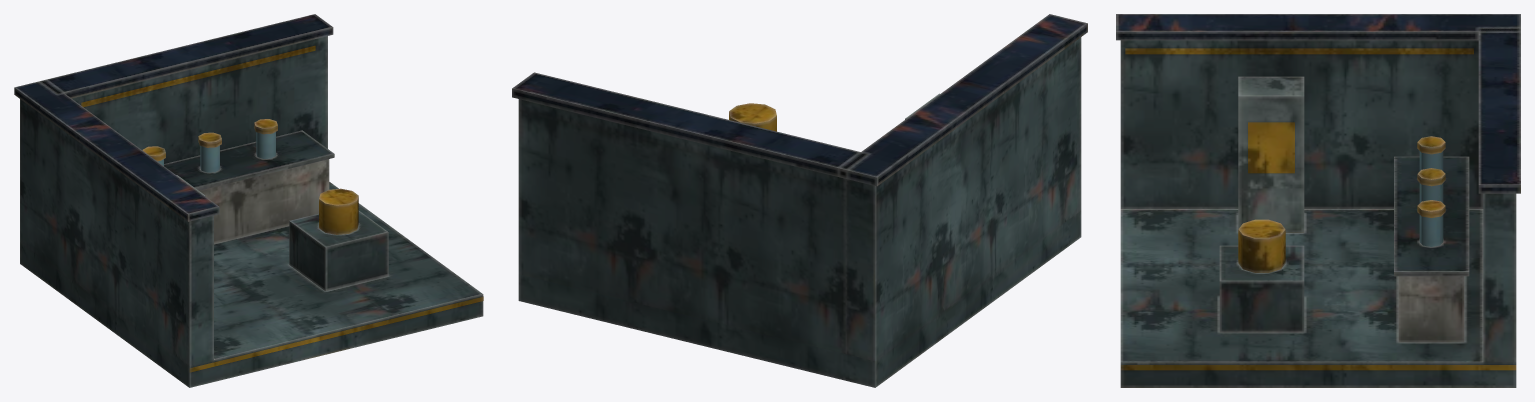
The model's file is engineering_lab.glb.
The picture shows the model from 3 angles, left to right: view 1: azimuth 30°, elevation 25°; view 2: azimuth 150°, elevation 25°; view 3: azimuth 270°, elevation 25°; orthographic projection. The views are drawn at different scales.
Parts seen in each view (by area): view 1: te_engineering_lab; view 2: te_engineering_lab; view 3: te_engineering_lab.
Boxes of the visible parts, x1,y1,x2,y2 form: te_engineering_lab: [14, 14, 483, 387]; te_engineering_lab: [512, 14, 1087, 387]; te_engineering_lab: [1116, 14, 1520, 387].
Size of the model in its own units: 0.86 by 0.48 by 0.86.
1 material, 1 textured.
